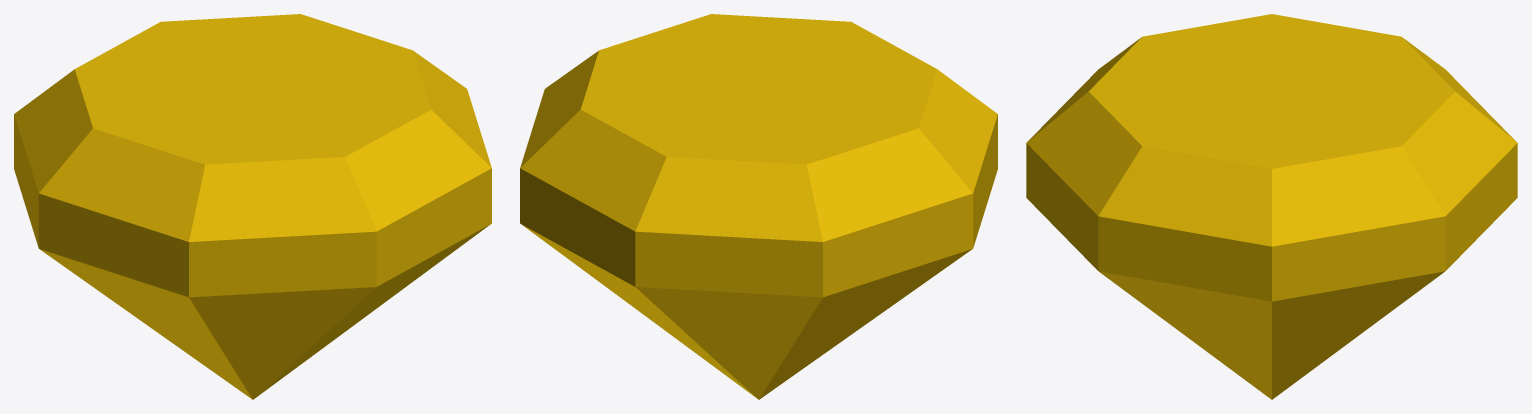
Rendered from kin_daiya1.fbx.
3 renders of one model, left to right at view 1: azimuth 30°, elevation 25°; view 2: azimuth 150°, elevation 25°; view 3: azimuth 270°, elevation 25°, orthographic.
Visible parts, largest first — view 1: pCylinder2; view 2: pCylinder2; view 3: pCylinder2.
Part boxes in pixels (box(x1,y1,x2,y2)): pCylinder2: box(14, 14, 491, 399); pCylinder2: box(520, 14, 997, 399); pCylinder2: box(1026, 14, 1517, 399).
Bounding box in the file's own units: 2.53 × 1.75 × 2.53.
